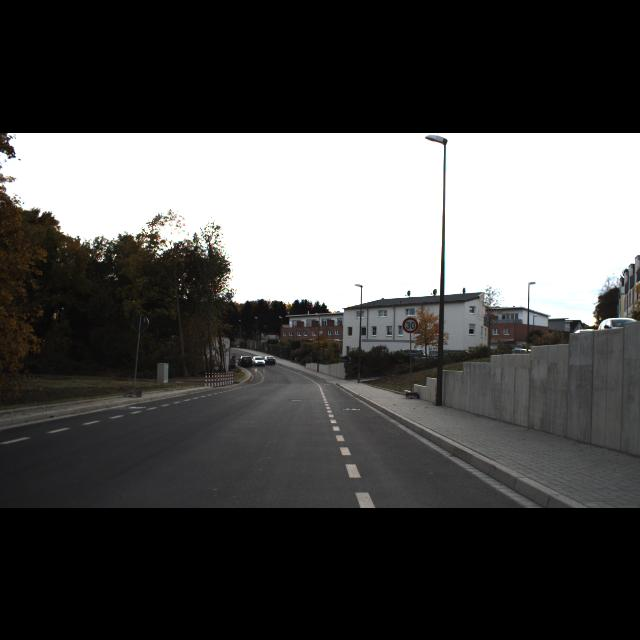prohibitory: (402, 316, 418, 334)
